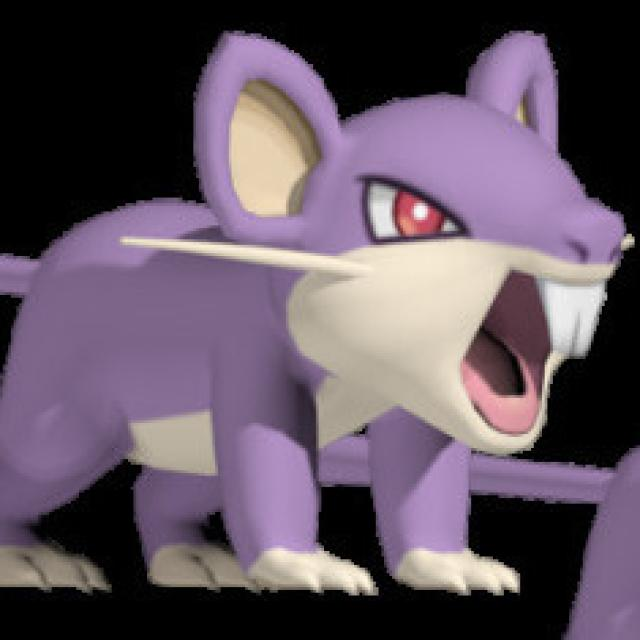Rattata: (21, 45, 624, 595)
